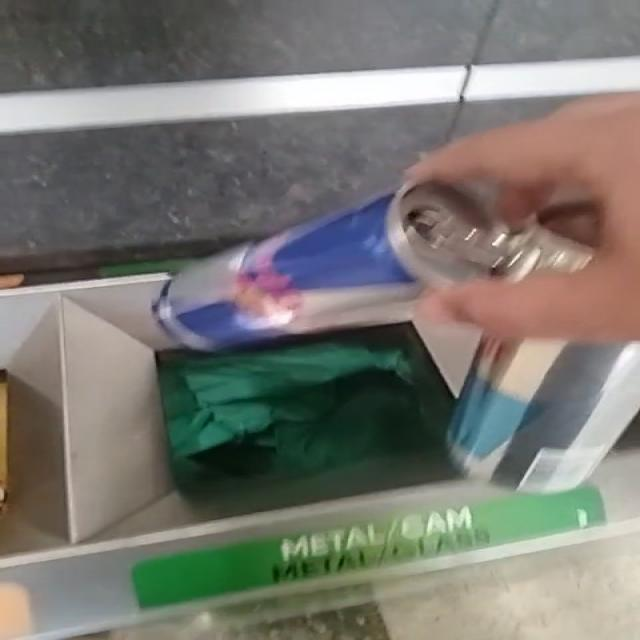Bin: (1, 276, 605, 640)
Metal: (156, 181, 593, 350)
